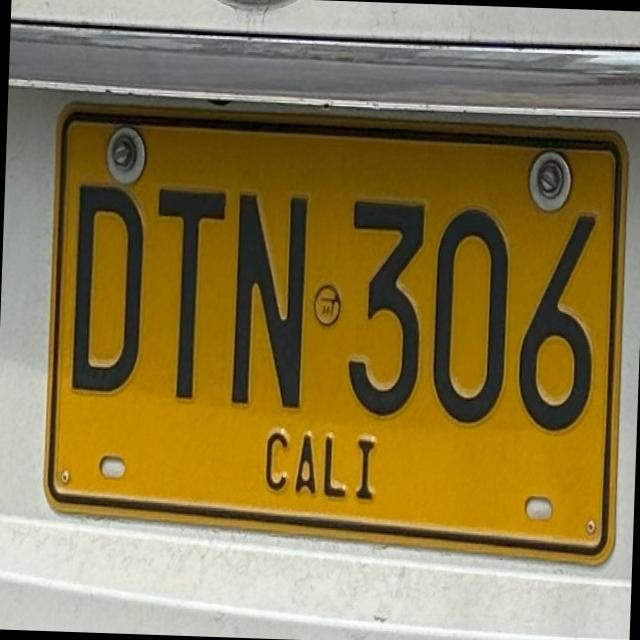number plate: (43, 102, 625, 559)
